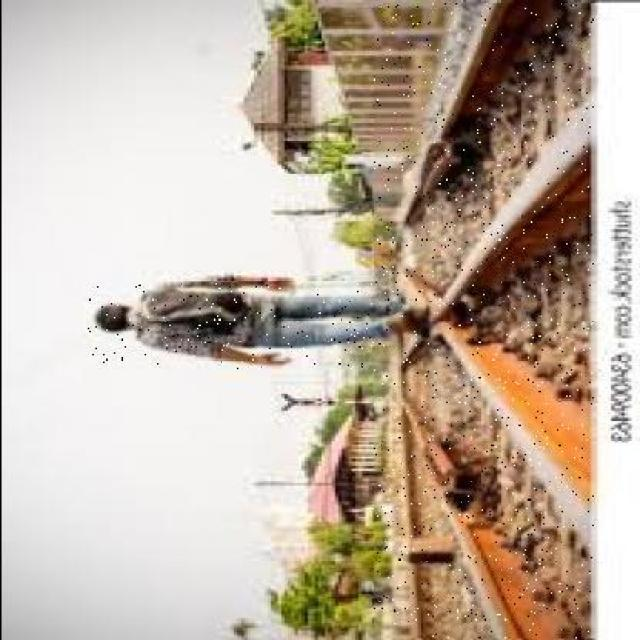danger: (82, 282, 421, 369)
rail: (373, 3, 592, 638)
